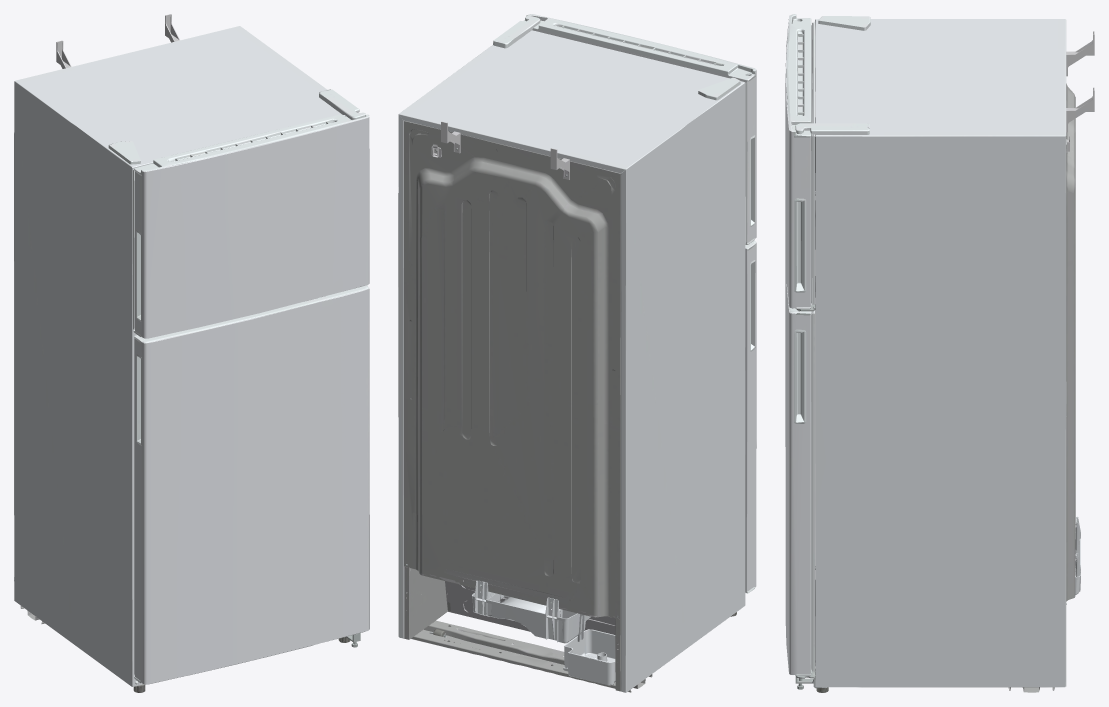
Rendered from ikea-lagan-30587626-refrigerator.glb.
3 views of the same model, side by side, from view 1: azimuth 30°, elevation 25°; view 2: azimuth 150°, elevation 25°; view 3: azimuth 270°, elevation 25° (orthographic). The views are drawn at different scales.
Visible parts, largest first — view 1: 30587626-LAGAN001; view 2: 30587626-LAGAN001; view 3: 30587626-LAGAN001.
Boxes of the visible parts, x1=… form: 30587626-LAGAN001: x1=14, y1=14, x2=369, y2=692; 30587626-LAGAN001: x1=398, y1=14, x2=756, y2=692; 30587626-LAGAN001: x1=785, y1=14, x2=1094, y2=692.
Size of the model in its own units: 0.7551 by 1.72 by 0.8372.
Materials: 2 (2 with a texture image).
